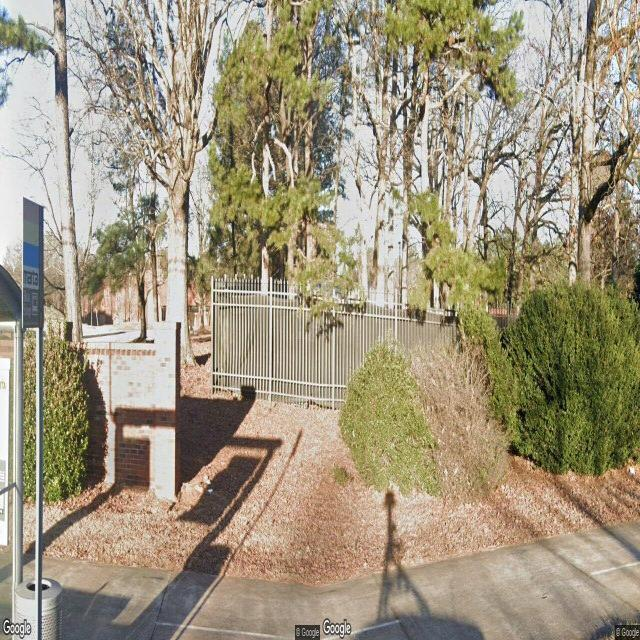shelter: (0, 264, 24, 640)
trash_can: (14, 576, 62, 640)
